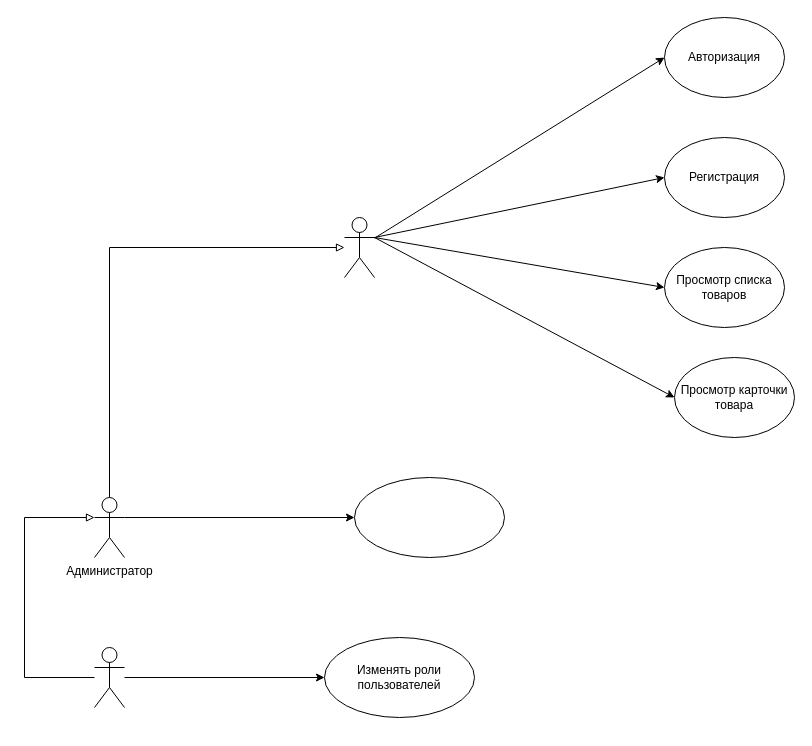
Some shapes in this 812 by 746 pixel diagram are drawn without their labels. Each missing label, with the centre of its shape:
"Главный администратор" goes at (x=109, y=677).
"Добавлять/удалять/изменять информацию о товаре" goes at (x=429, y=517).
"Пользователь без регистрации" goes at (x=359, y=247).
